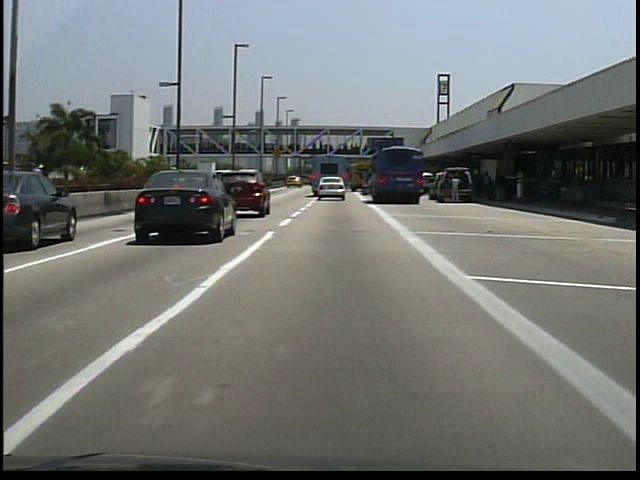person: (492, 167, 508, 206), (449, 175, 462, 206)
